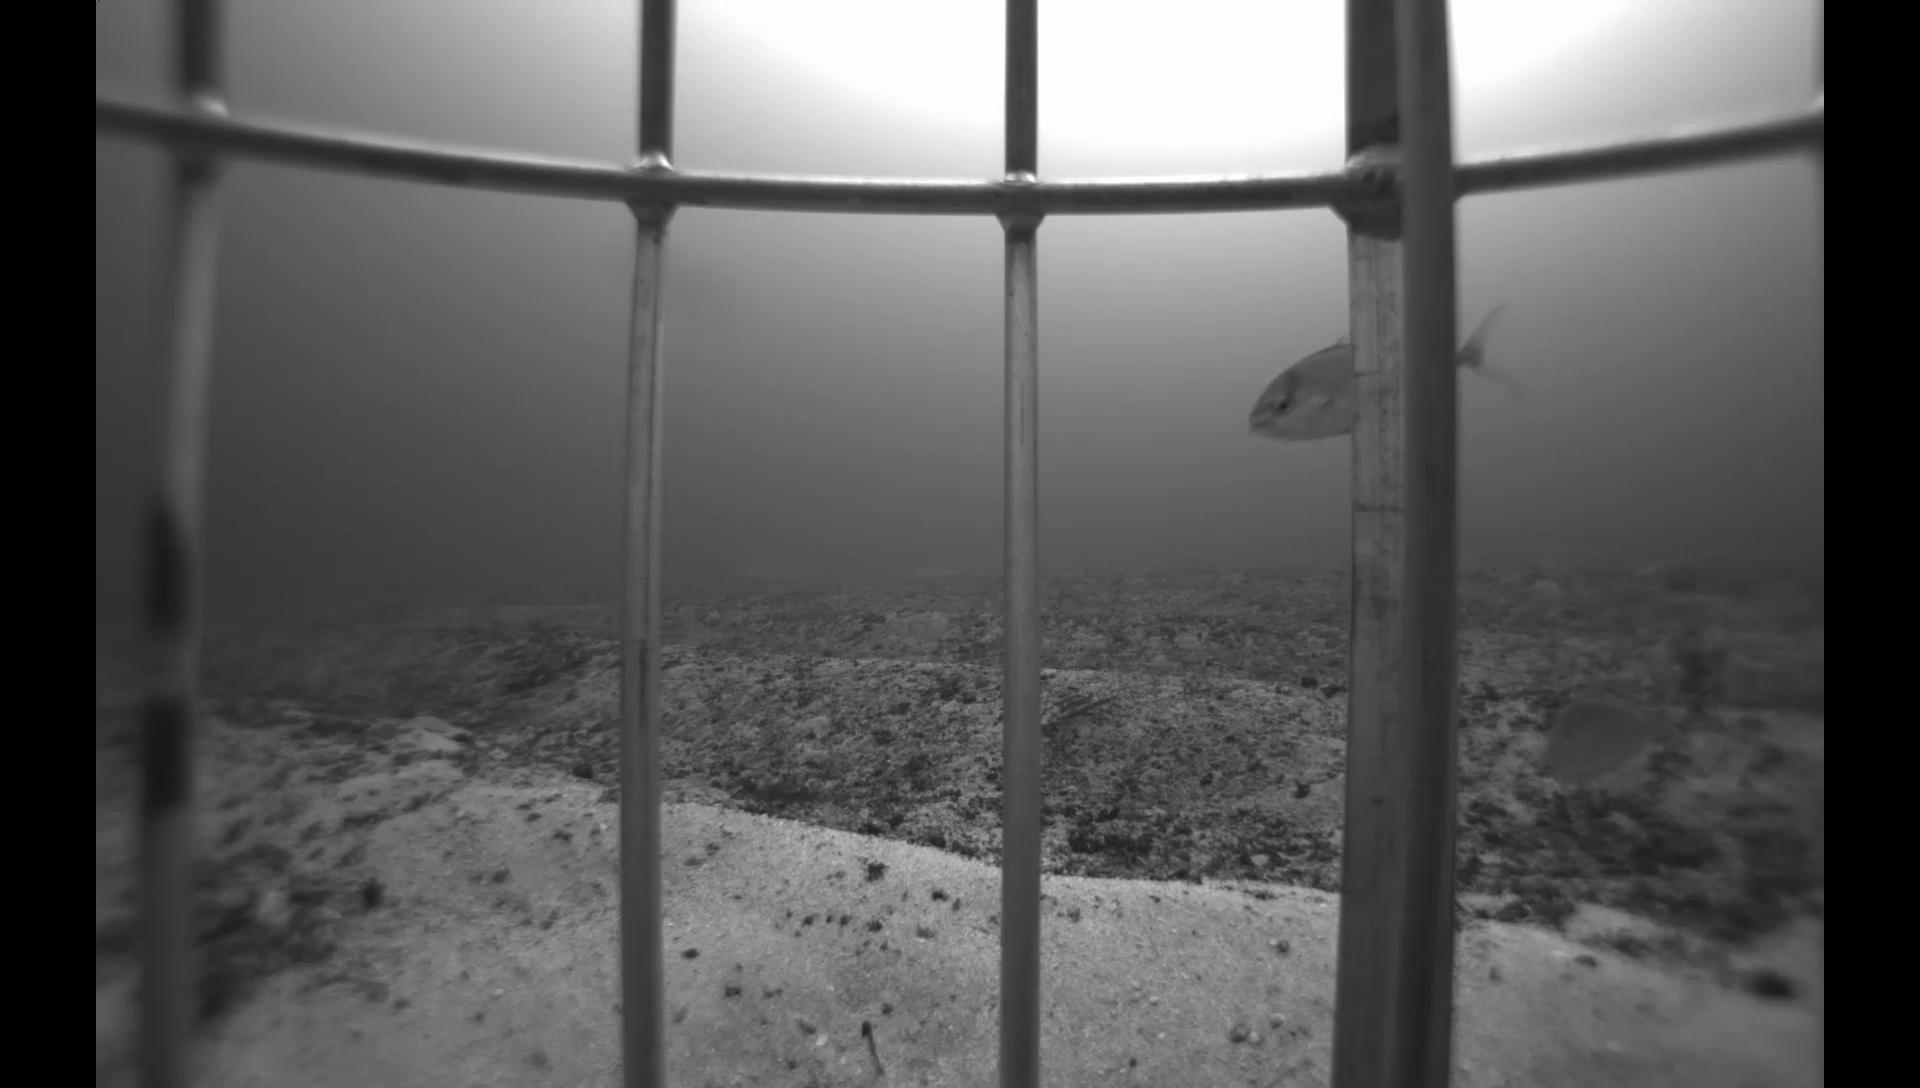CALAMUSPRORIDENS-170210605: (1524, 678, 1713, 789)
SERIOLAFASCIATA-170113103: (1232, 297, 1534, 466)
